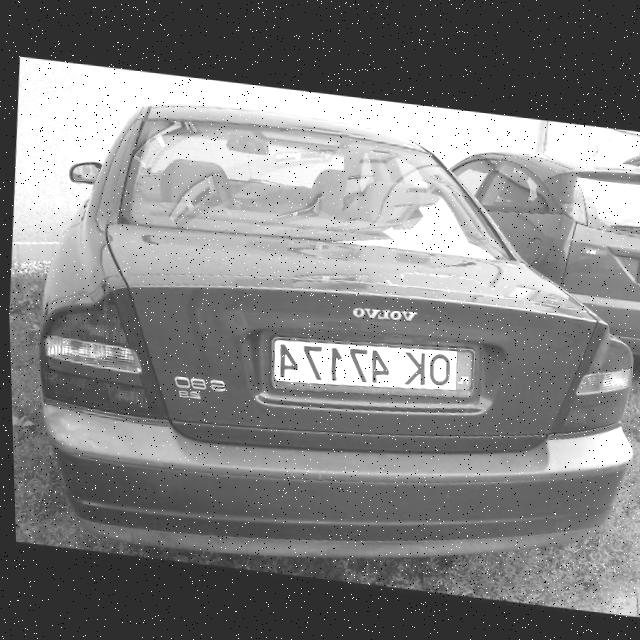license-plates: (271, 338, 472, 397)
